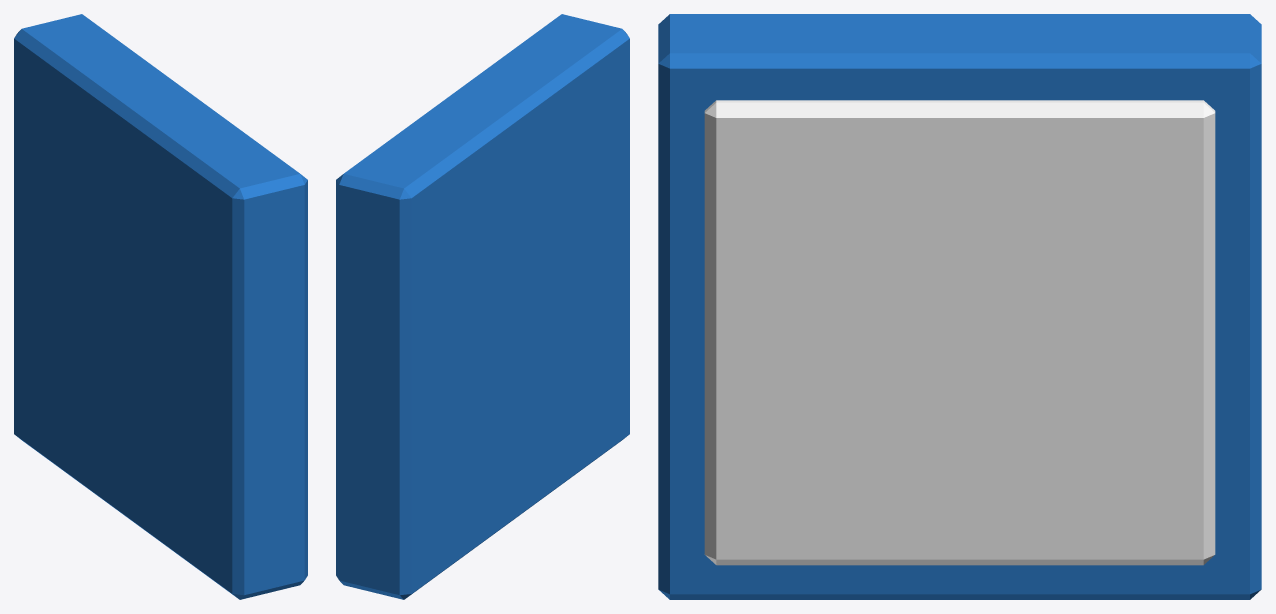
The model's file is rotating_mirror.glb.
3 renders of one model, left to right at view 1: azimuth 30°, elevation 25°; view 2: azimuth 150°, elevation 25°; view 3: azimuth 270°, elevation 25°, orthographic. The views are drawn at different scales.
Visible parts, largest first — view 1: rotating_mirror; view 2: rotating_mirror; view 3: rotating_mirror.
Boxes of the visible parts, x1=… form: rotating_mirror: x1=14, y1=14, x2=307, y2=599; rotating_mirror: x1=336, y1=14, x2=629, y2=599; rotating_mirror: x1=658, y1=14, x2=1261, y2=599.
Bounding box in the file's own units: 0.0575 × 0.26 × 0.26.
